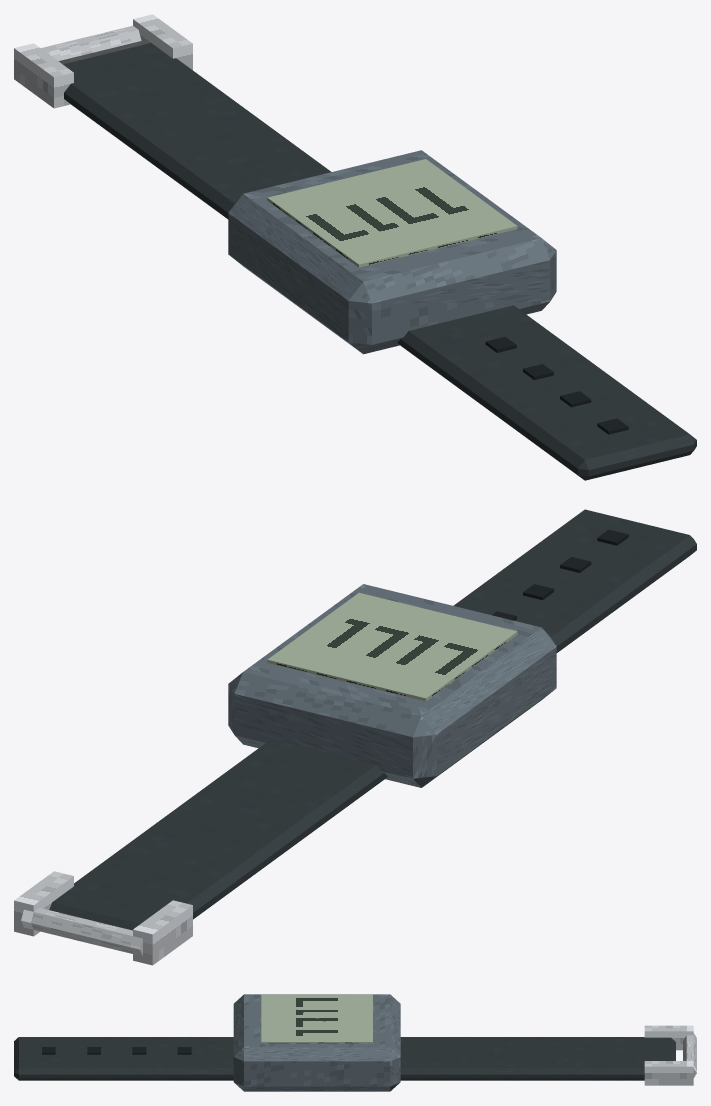
Rendered from wristwatch.glb.
The picture shows the model from 3 angles, top to bottom: view 1: azimuth 30°, elevation 25°; view 2: azimuth 150°, elevation 25°; view 3: azimuth 270°, elevation 25°; orthographic projection. The views are drawn at different scales.
Visible parts, largest first — view 1: block_strap, block_case, block_digital dial, block_buckle side -0.012, block_buckle crossbar, block_buckle side 0.012; view 2: block_strap, block_case, block_digital dial, block_buckle crossbar, block_buckle side -0.012, block_buckle side 0.012; view 3: block_strap, block_case, block_digital dial, block_buckle side 0.012, block_buckle side -0.012, block_buckle crossbar.
Boxes of the visible parts, x1,y1,x2,y2 form: block_strap: (63,43,696,480); block_case: (228,150,556,354); block_digital dial: (267,159,517,267); block_buckle side -0.012: (14,43,73,108); block_buckle crossbar: (41,25,141,64); block_buckle side 0.012: (133,14,192,69); block_strap: (49,509,696,930); block_case: (228,584,556,787); block_digital dial: (267,592,517,701); block_buckle crossbar: (21,908,142,956); block_buckle side -0.012: (133,900,192,965); block_buckle side 0.012: (14,871,73,936); block_strap: (14,1037,675,1080); block_case: (233,994,400,1091); block_digital dial: (261,994,372,1043); block_buckle side 0.012: (644,1061,693,1085); block_buckle side -0.012: (644,1025,693,1050); block_buckle crossbar: (683,1033,696,1077).
Size of the model in its own units: 0.042 by 0.0148 by 0.196.
1 material, 1 textured.
